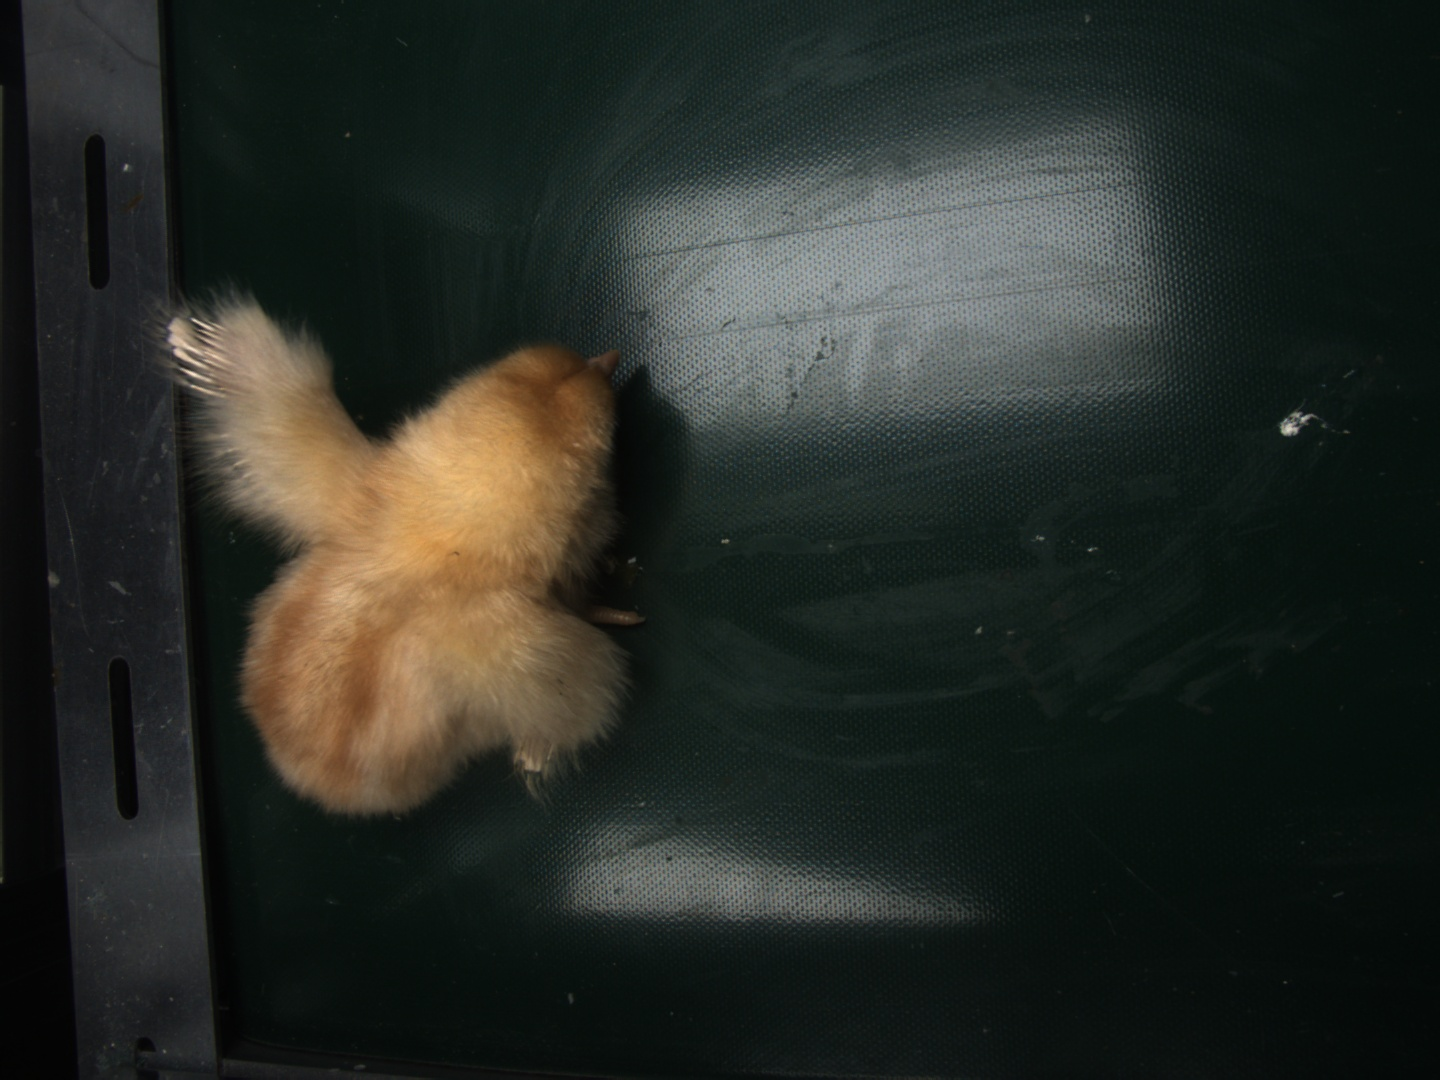female: (166, 313, 234, 397)
